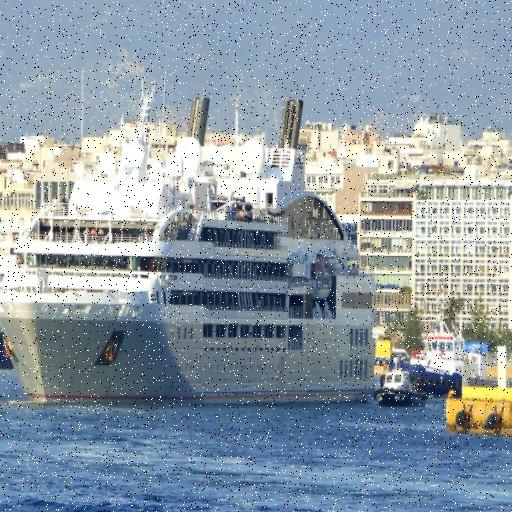cruises: (1, 89, 388, 411)
